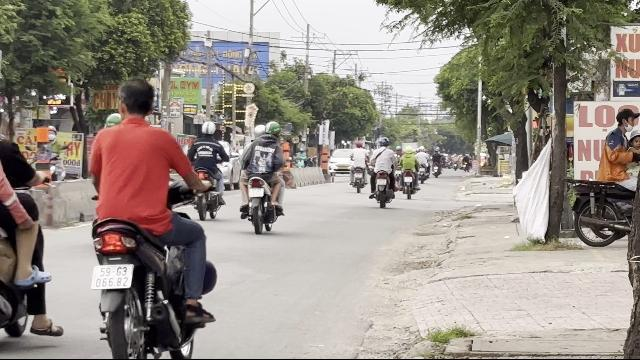licenseplate: (91, 264, 131, 288)
motorcyclist: (79, 78, 219, 358)
nohelmet: (116, 80, 156, 122)
